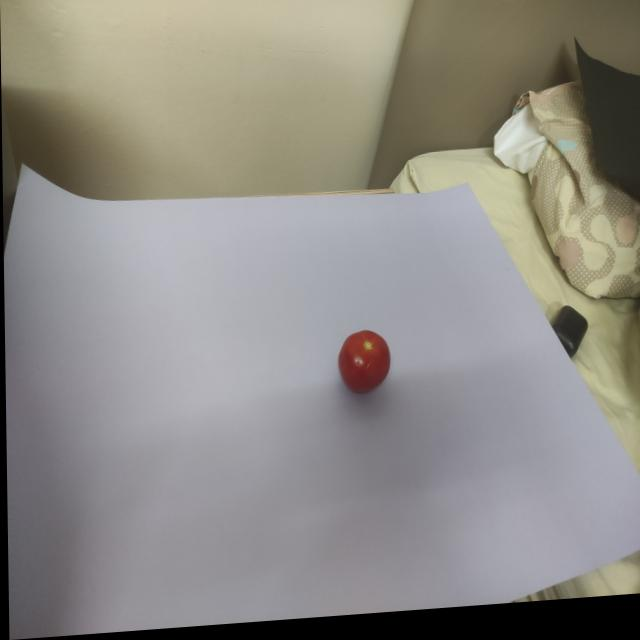kirmizi: (323, 320, 408, 416)
